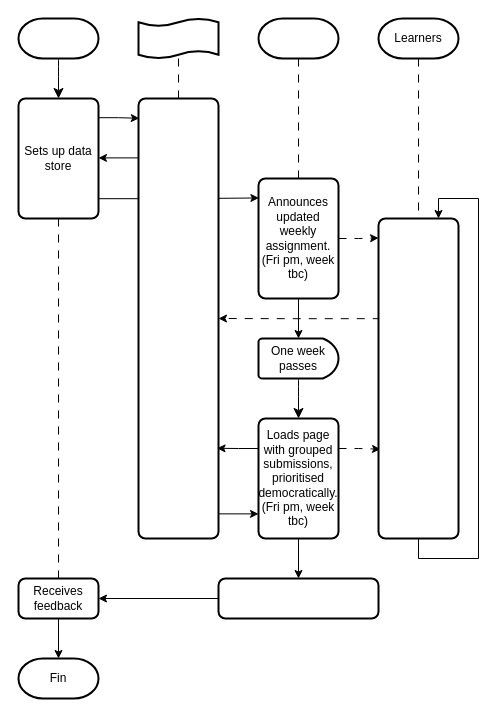
The diagram is 504 pixels wide and 716 high, and some of its shapes have lost their labels. The shapes that lost their labels are listed below. From the top down, each one's centre as x and y in pixels, then its label:
At [58,38]: "Alex".
At [298,38]: "Andrew".
At [418,378]: "Email questions to the provided email address".
At [298,598]: "Provides feedback".
